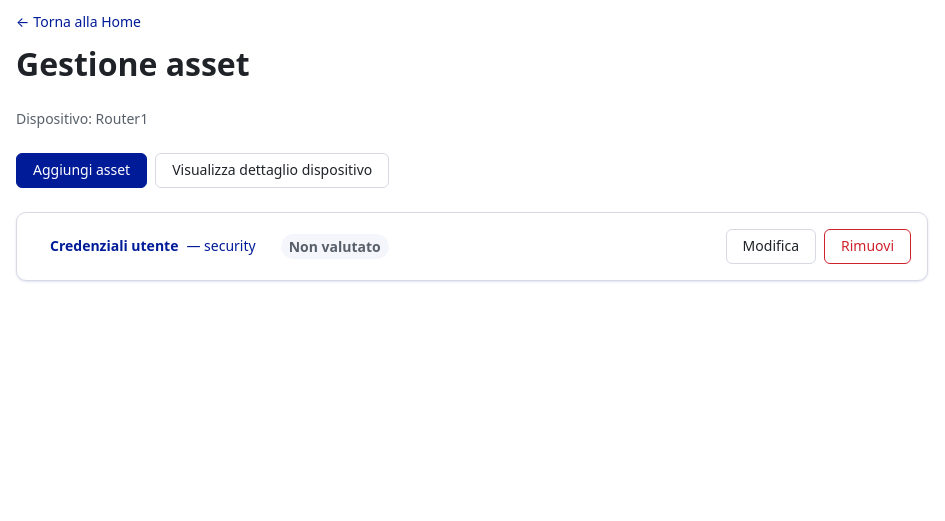
Test: DeviceAssetManagementPage › collapses the detail again on a second selection
What coordinates should you click on to do the following:
click the button "Credenziali utente — security"
I would click on:
 (153, 246)
Its box is [33, 229, 273, 264].
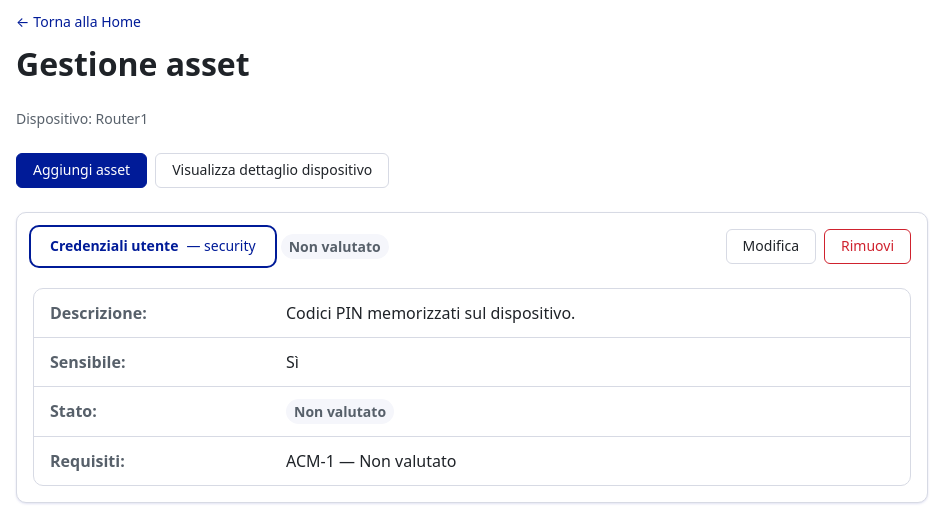
What coordinates should you click on to do the following:
click the button "Credenziali utente — security"
I would click on:
 (153, 246)
Its box is [33, 229, 273, 264].
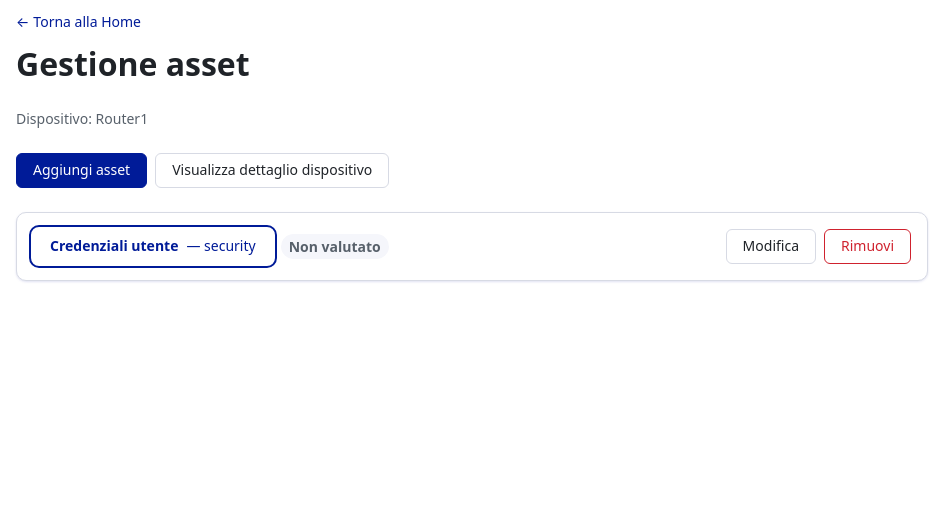
Check: the text "Descrizione:" is gone
